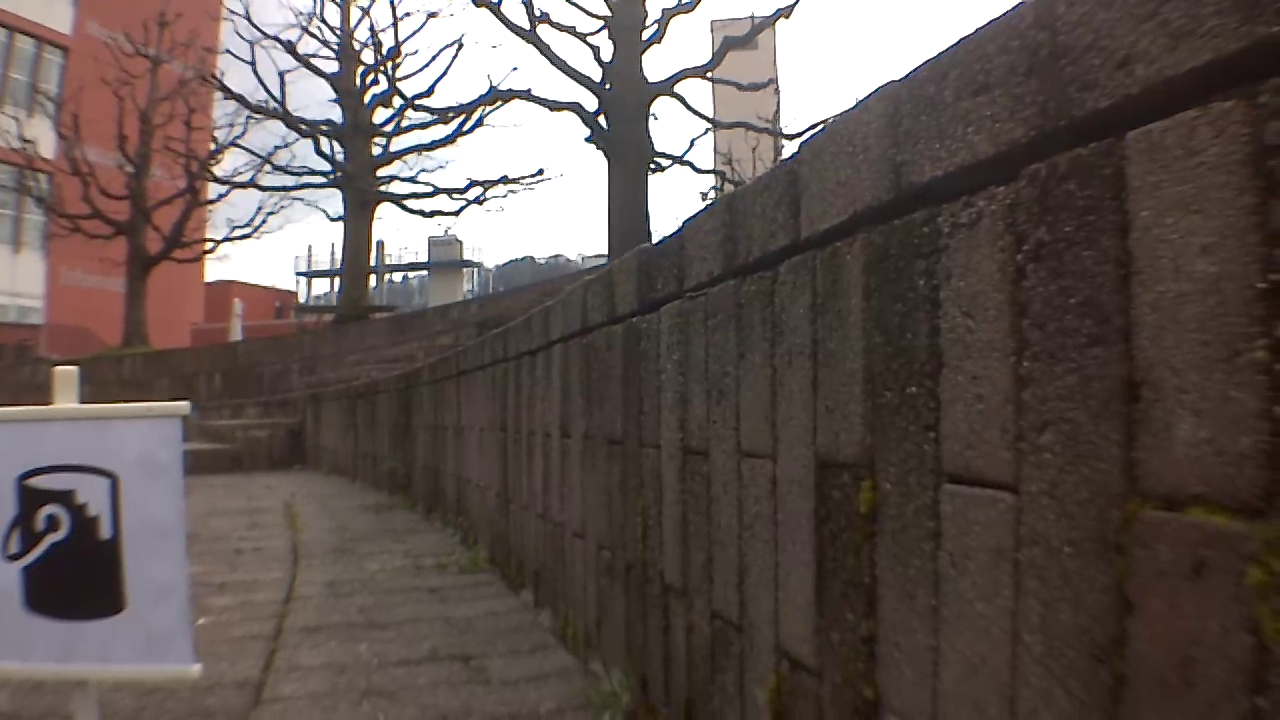bucket: (0, 458, 132, 627)
